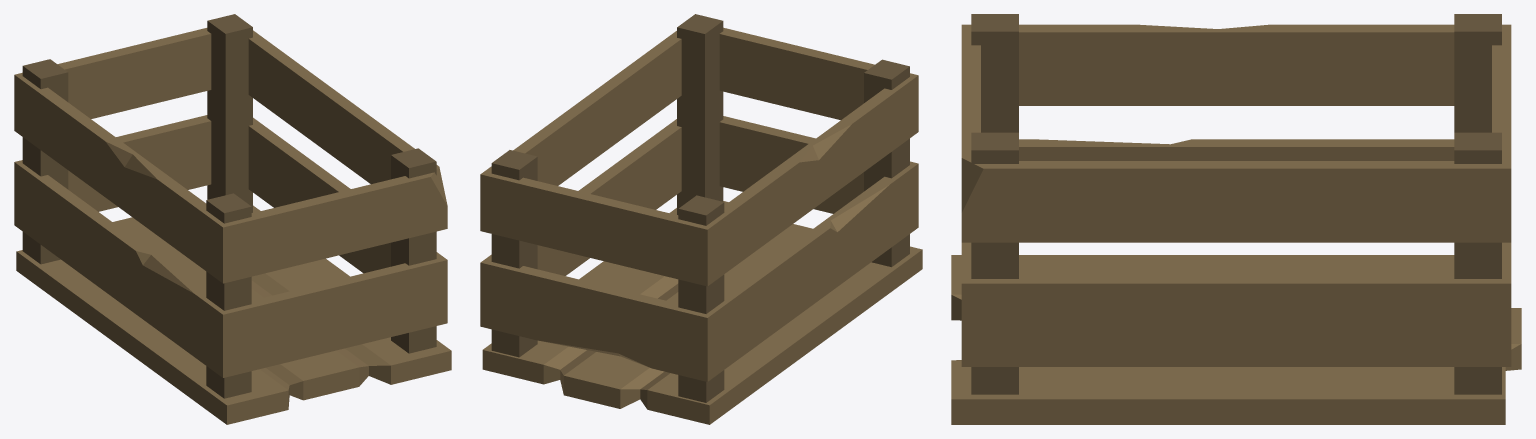
The model's file is SM_Item_Crate_01.obj.
3 renders of one model, left to right at view 1: azimuth 30°, elevation 25°; view 2: azimuth 150°, elevation 25°; view 3: azimuth 270°, elevation 25°, orthographic. The views are drawn at different scales.
Parts seen in each view (by area): view 1: SM_Item_Crate_01_0; view 2: SM_Item_Crate_01_0; view 3: SM_Item_Crate_01_0.
Part boxes in pixels (x1,y1,x2,y2): SM_Item_Crate_01_0: (14, 14, 451, 424); SM_Item_Crate_01_0: (480, 14, 922, 424); SM_Item_Crate_01_0: (951, 14, 1521, 424).
Size of the model in its own units: 0.4526 by 0.3946 by 0.7557.
1 material, 1 textured.
